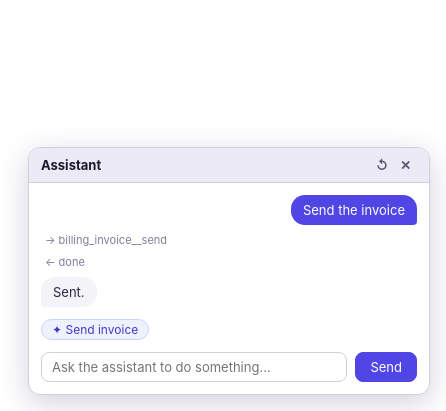
it: AgentFaceAssistant widget › locks the input and send button while the run awaits confirmation
The image size is (446, 411).
Type "Send it" into the field named "Assistant instruction".
click(194, 367); type("Send it")  # box x1=41 y1=352 x2=347 y2=382
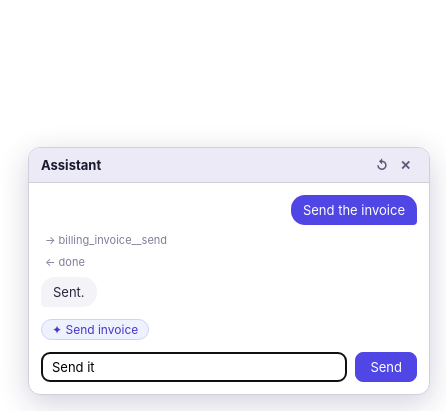
Click the button "Send".
click(386, 367)  # box x1=355 y1=352 x2=417 y2=382
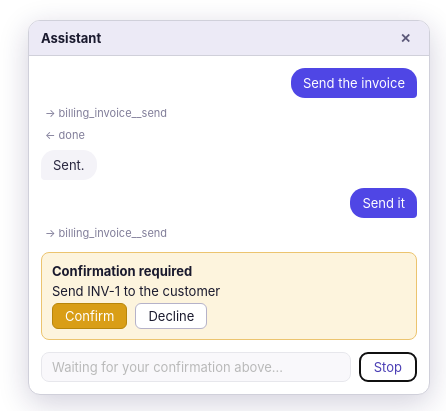
Result: the element with test id "confirmation-card" is shown at x1=41 y1=252 x2=417 y2=340
Result: the field named "Assistant instruction" is disabled at x1=41 y1=352 x2=351 y2=382
Result: the button with aria-label "Stop the assistant" is shown at x1=359 y1=352 x2=417 y2=382
Click the button "Confirm".
click(90, 316)  # box x1=52 y1=303 x2=127 y2=329
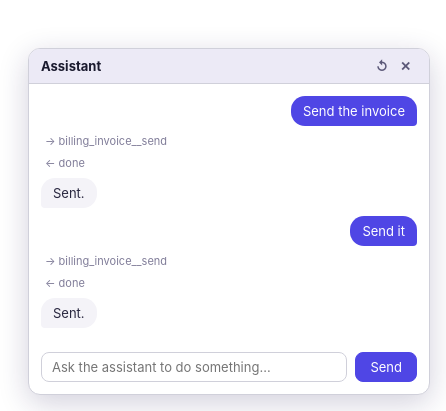
Result: the field named "Assistant instruction" is enabled at x1=41 y1=352 x2=347 y2=382
